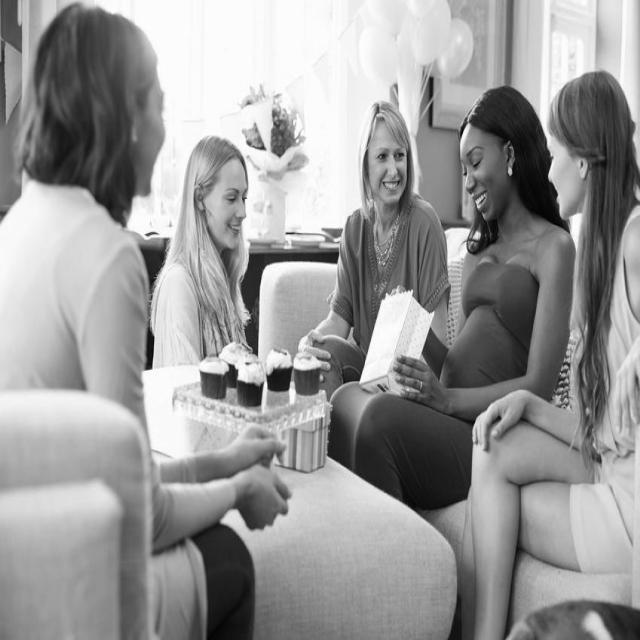person: (316, 87, 622, 628), (463, 84, 640, 632), (0, 9, 164, 487), (296, 99, 453, 410), (151, 138, 262, 370)
